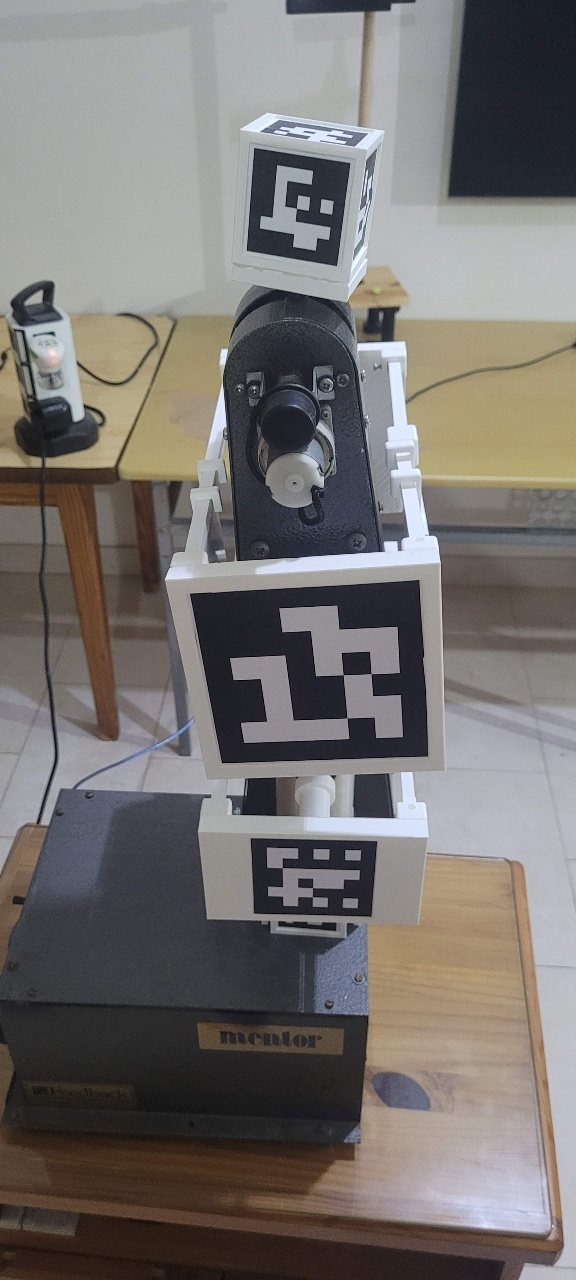Robot: (51, 157, 546, 959)
